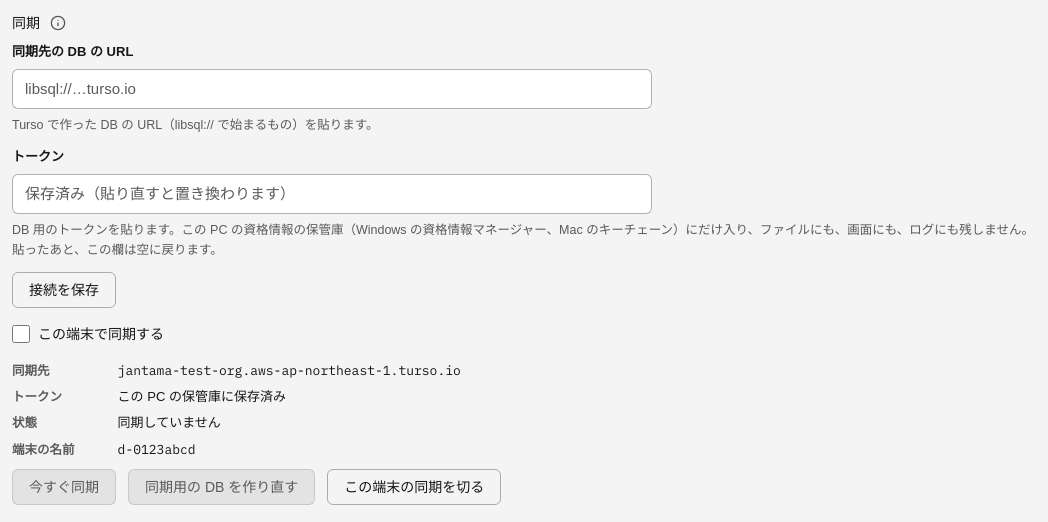
Test: 設定の「同期」の欄（F15、D-4） › 保存してあるときだけ、この端末で同期するを選べる。選ぶと、使う設定にして、状態が変わる
Click the checkbox labelled "この端末で同期する" at (21, 334), box [12, 325, 30, 343]
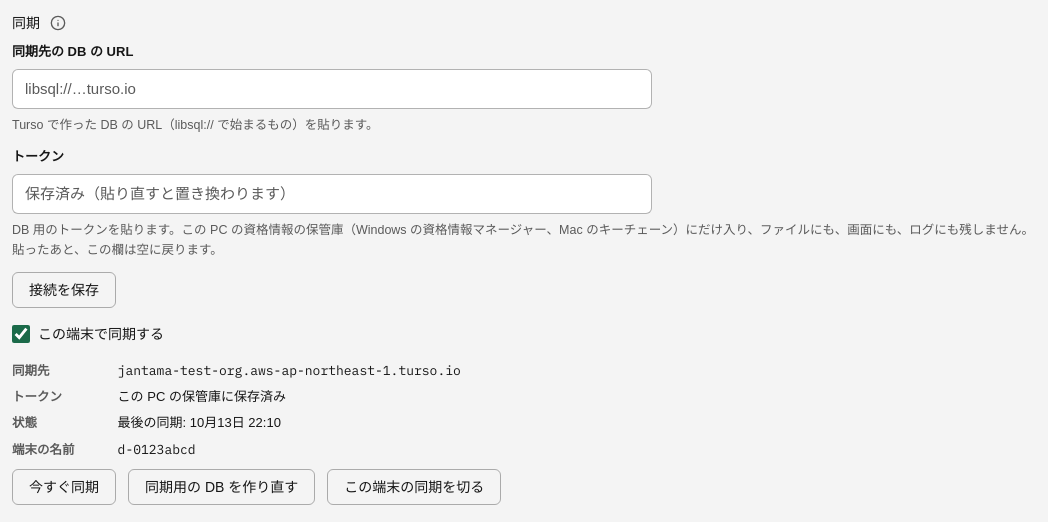
Check: the checkbox labelled "この端末で同期する" is checked, box [12, 325, 30, 343]
Check: the element "同期" shows "最後の同期: 10月13日 22:10", box [118, 416, 281, 430]
